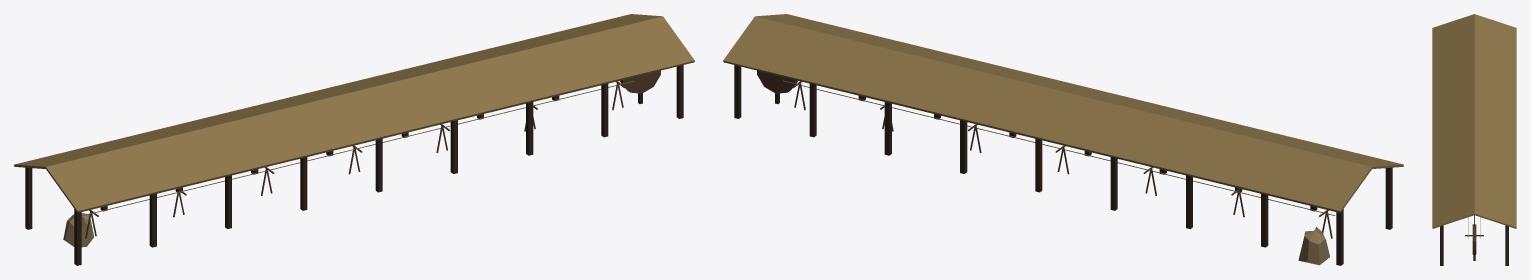
Rendered from walk_prop_ropewalk.glb.
3 views of the same model, side by side, from view 1: azimuth 30°, elevation 25°; view 2: azimuth 150°, elevation 25°; view 3: azimuth 270°, elevation 25° (orthographic). The views are drawn at different scales.
Parts seen in each view (by area): view 1: walk_prop_ropewalk_roof, walk_prop_ropewalk; view 2: walk_prop_ropewalk_roof, walk_prop_ropewalk; view 3: walk_prop_ropewalk_roof, walk_prop_ropewalk.
Part boxes in pixels (left/top/right/bottom): walk_prop_ropewalk_roof: left=14, top=14, right=694, bottom=212; walk_prop_ropewalk: left=25, top=65, right=683, bottom=265; walk_prop_ropewalk_roof: left=723, top=14, right=1403, bottom=212; walk_prop_ropewalk: left=734, top=65, right=1392, bottom=265; walk_prop_ropewalk_roof: left=1432, top=14, right=1516, bottom=228; walk_prop_ropewalk: left=1440, top=215, right=1508, bottom=265.
Size of what is drawn, in the model's own units: 24.6 by 3.61 by 4.4.
Materials: 1 (1 with a texture image).
